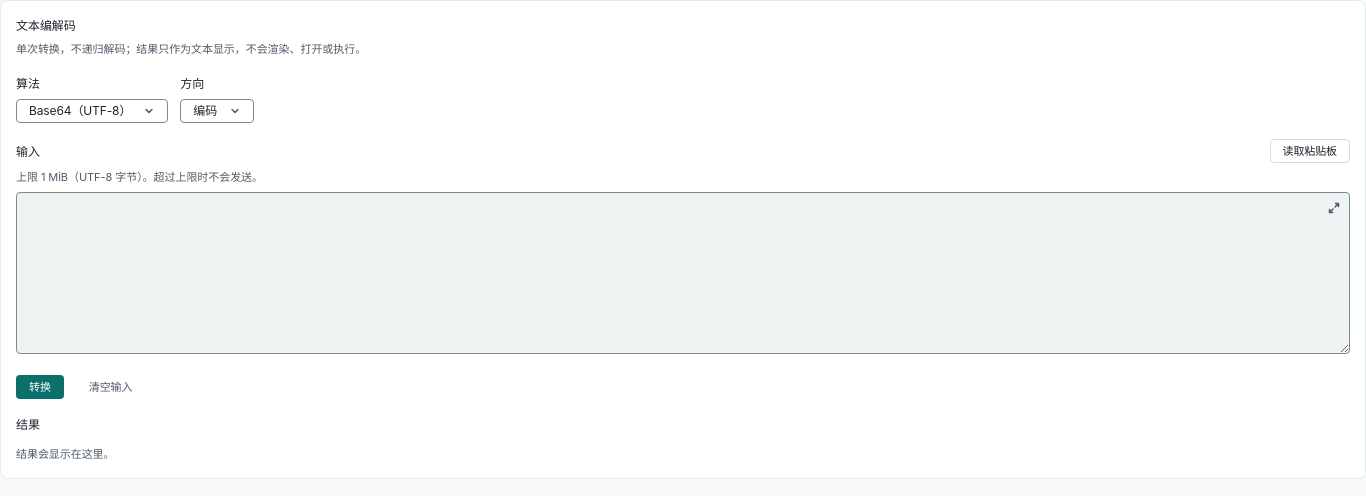
Test case: 文本编解码 输入框的读取粘贴板 › replaces the current input with the clipboard text
The width and height of the screenshot is (1366, 496).
Step 1. Type "旧内容" into the text box labelled "输入" → (683, 273), box [16,192,1350,354]
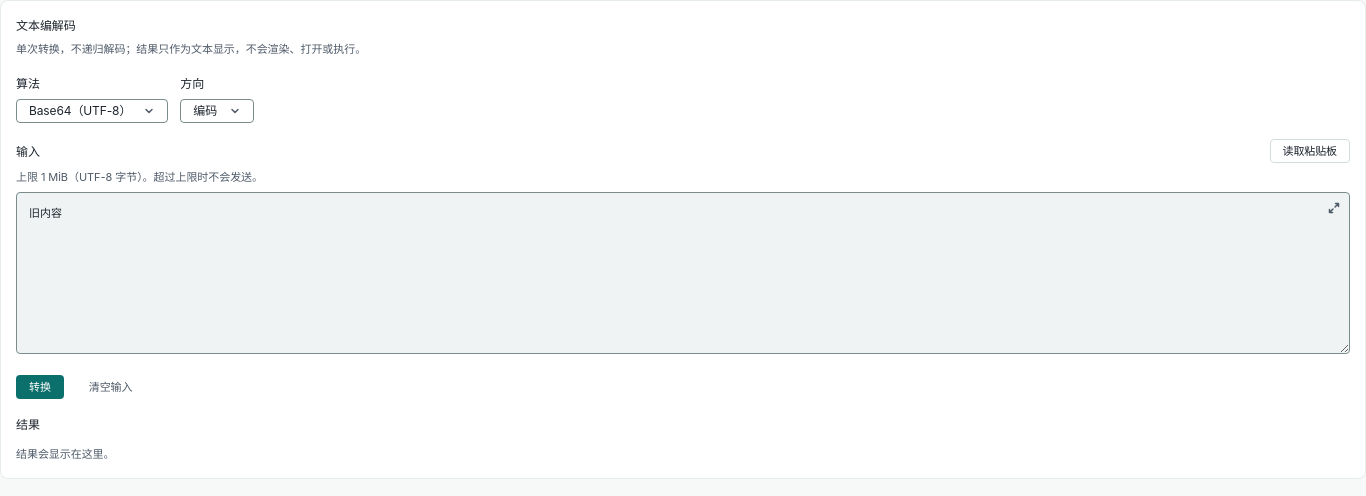
Step 2. Click the button "读取粘贴板" → (1310, 151), box [1270,139,1350,163]
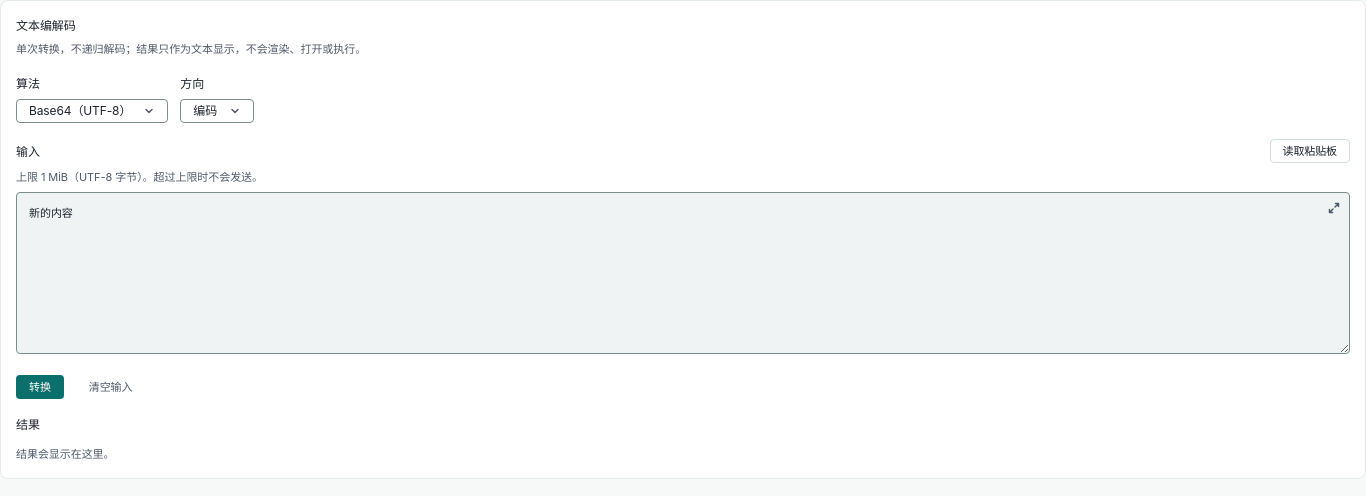
Now the text box labelled "输入" holds "新的内容", box [16,192,1350,354]
